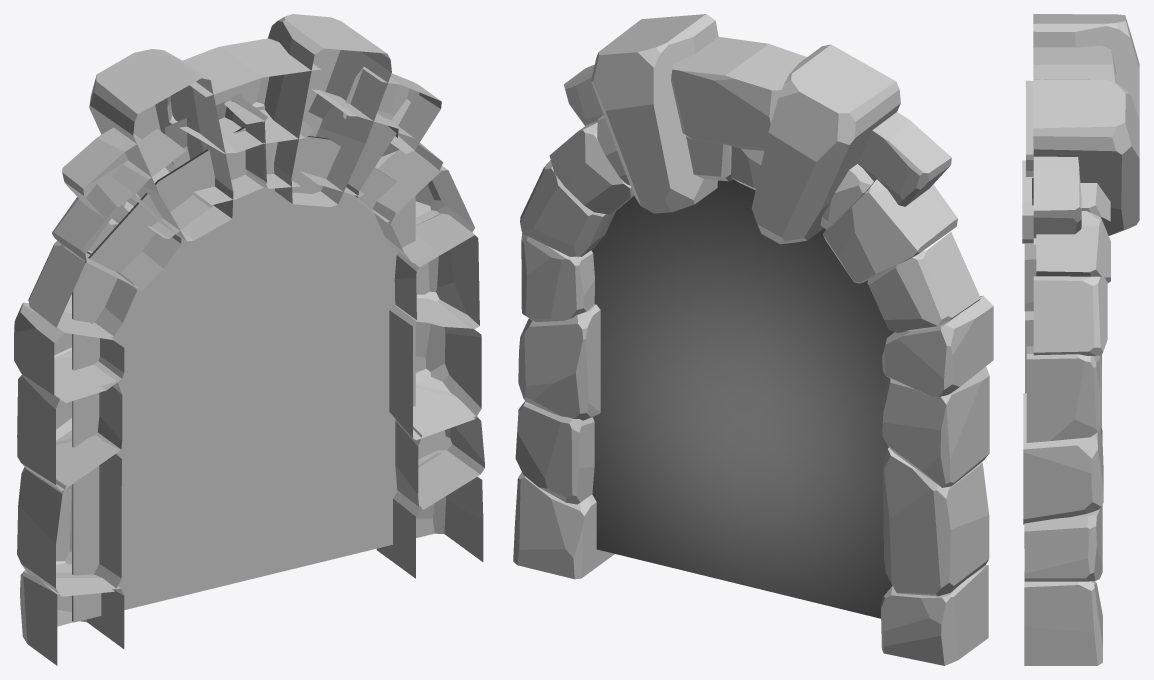
Rendered from Gate03.fbx.
3 views of the same model, side by side, from view 1: azimuth 30°, elevation 25°; view 2: azimuth 150°, elevation 25°; view 3: azimuth 270°, elevation 25° (orthographic). The views are drawn at different scales.
Parts seen in each view (by area): view 1: LOD0; view 2: LOD0; view 3: LOD0.
Boxes of the visible parts, x1,y1,x2,y2 form: LOD0: [14, 14, 484, 665]; LOD0: [513, 14, 993, 665]; LOD0: [1022, 14, 1139, 665].
Size of what is drawn, in the model's own units: 411 by 103 by 499.
